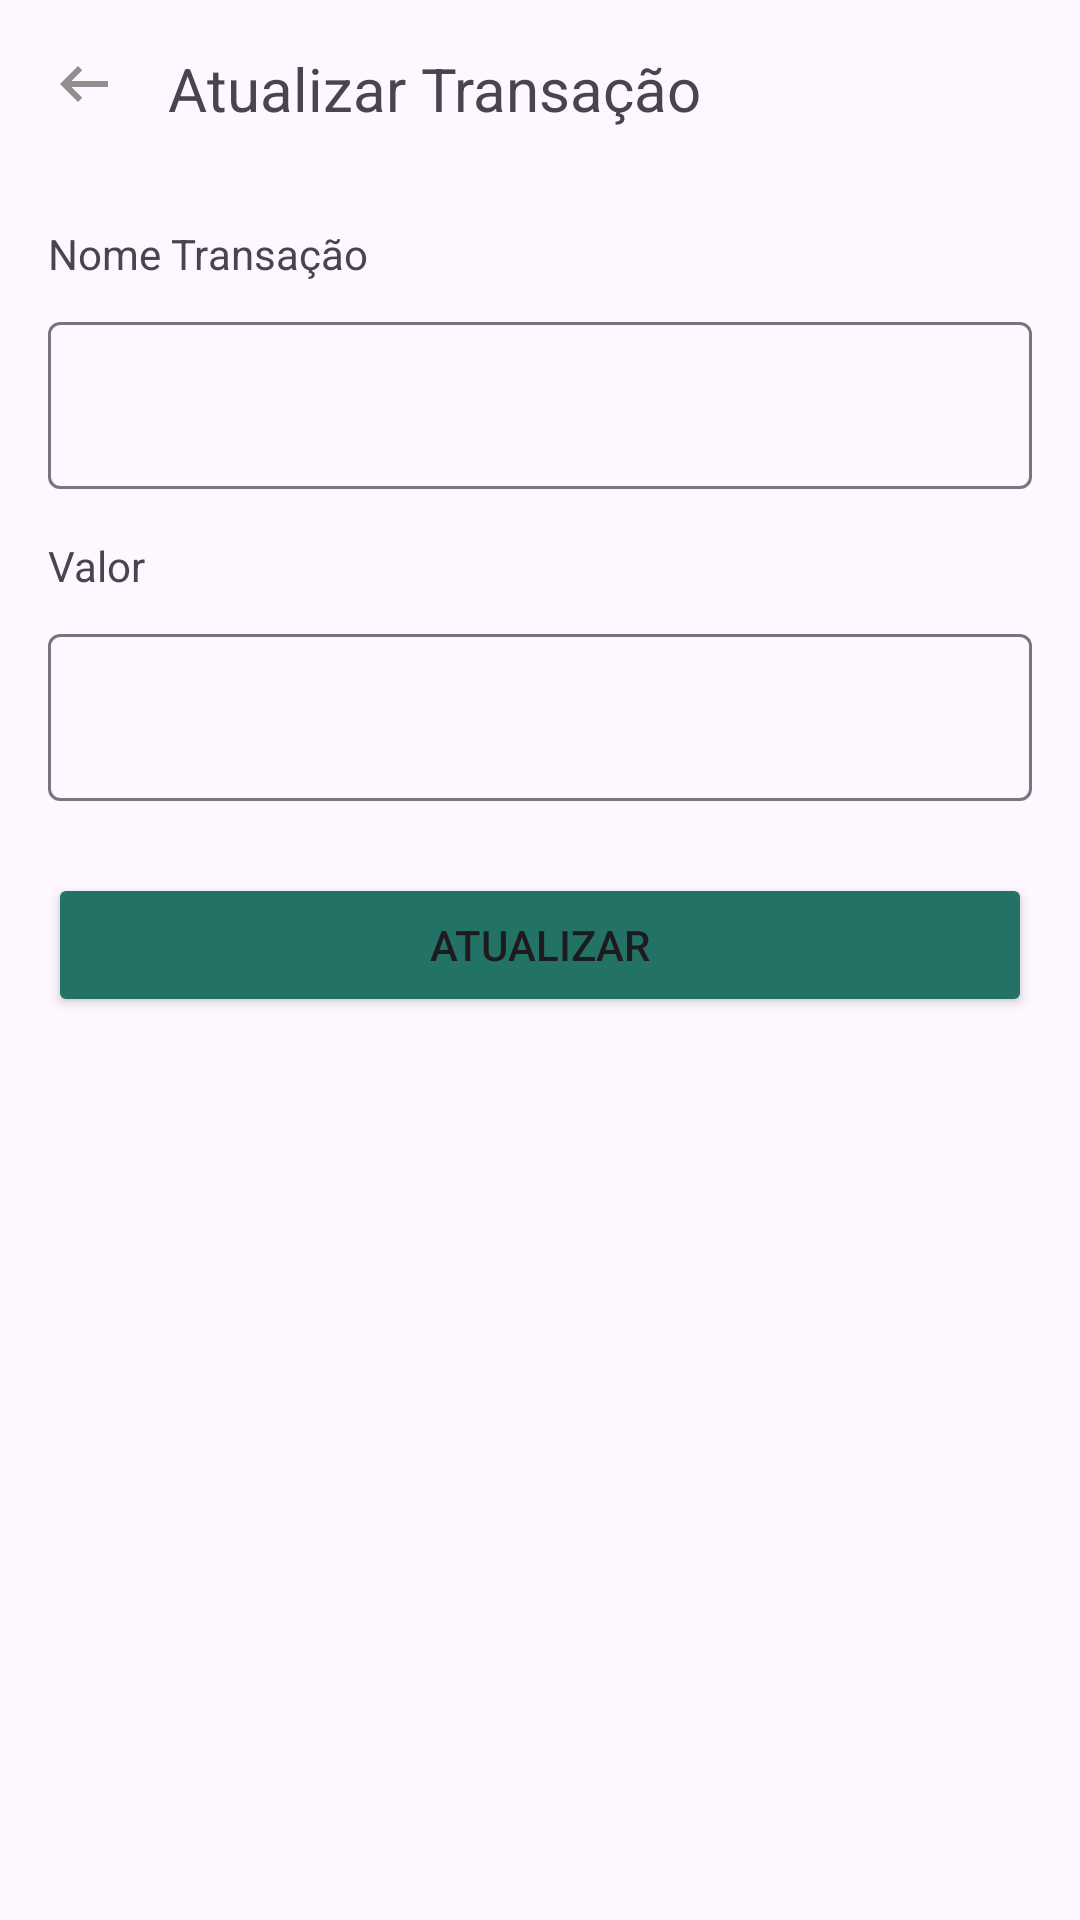

Icon bounding boxes for this 1080*1920 phone screenshot, format bbox=[x1, y1, x2, y2]:
voltar: bbox=[60, 66, 108, 102]
